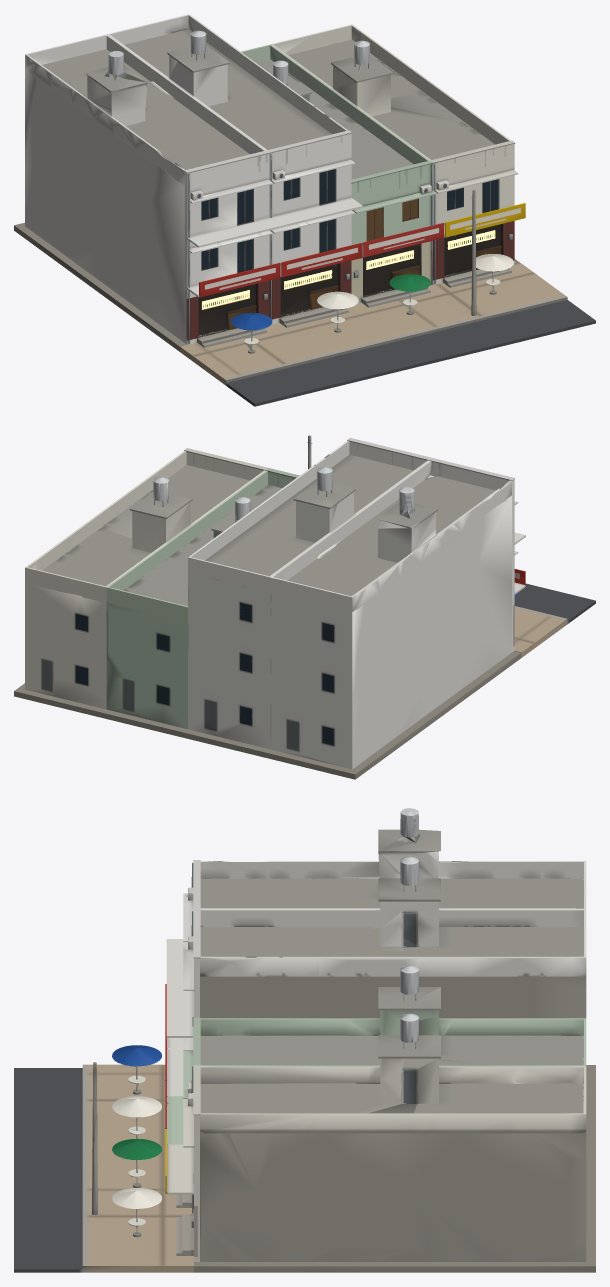
The model's file is quang_trung_20_26.mid.glb.
3 views of the same model, one above another, from view 1: azimuth 30°, elevation 25°; view 2: azimuth 150°, elevation 25°; view 3: azimuth 270°, elevation 25° (orthographic). The views are drawn at different scales.
Visible parts, largest first — view 1: quang_trung_20_26; view 2: quang_trung_20_26; view 3: quang_trung_20_26.
Part boxes in pixels (x1,y1,x2,y2): quang_trung_20_26: [14, 14, 595, 406]; quang_trung_20_26: [14, 435, 595, 779]; quang_trung_20_26: [14, 808, 595, 1272].
Size of the model in its own units: 24.3 by 15.59 by 29.68.
Materials: 13 (13 with a texture image).
